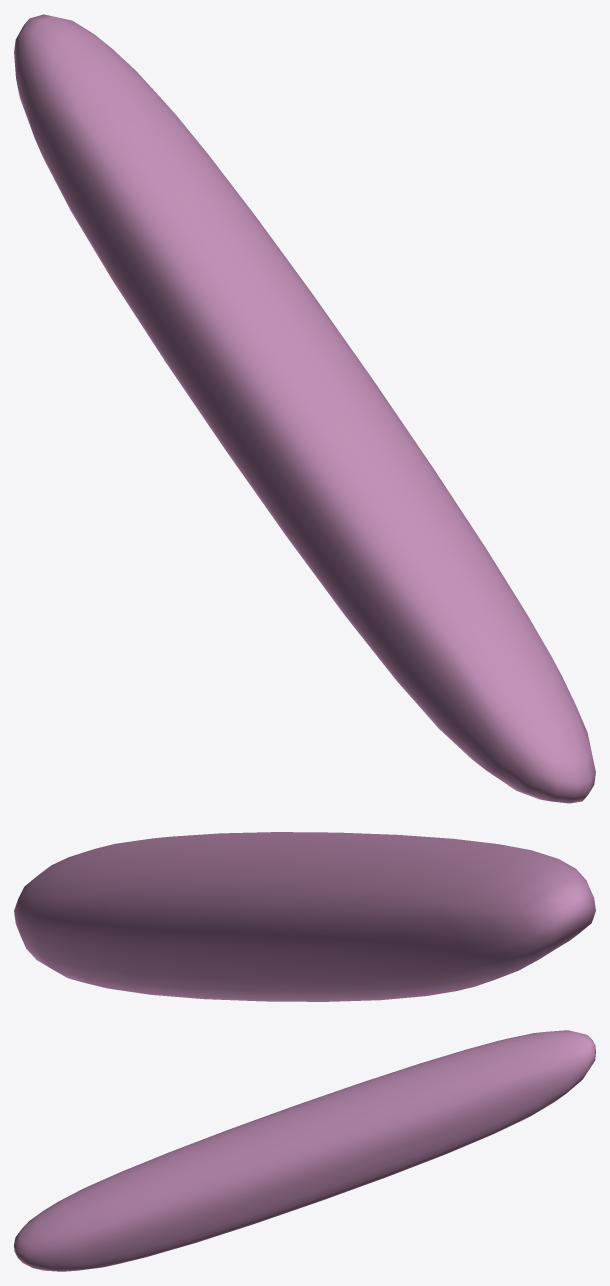
The picture shows the model from 3 angles, top to bottom: view 1: azimuth 30°, elevation 25°; view 2: azimuth 210°, elevation 25°; view 3: azimuth 270°, elevation 25°; orthographic projection. The views are drawn at different scales.
Parts seen in each view (by area): view 1: 左侧迷走神经背核; view 2: 左侧迷走神经背核; view 3: 左侧迷走神经背核.
Part boxes in pixels (<box>): 左侧迷走神经背核: <box>14,14,595,803</box>; 左侧迷走神经背核: <box>14,832,595,1001</box>; 左侧迷走神经背核: <box>14,1030,595,1271</box>.
Size of the model in its own units: 0.00173 by 0.00456 by 0.0106.
